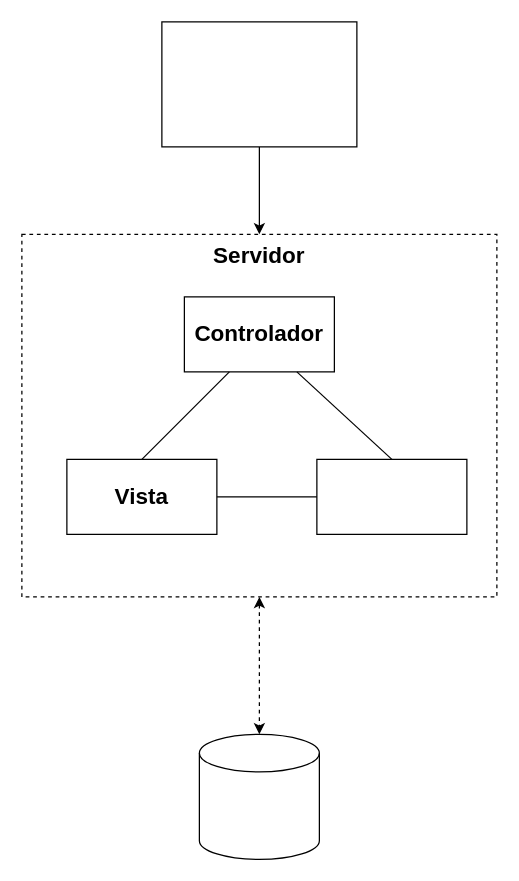
This 519x881 diagram has some shape labels left out. Each missing label, with the centre of its shape:
"Cliente" goes at point (259, 84).
"Modelo" goes at point (391, 496).
